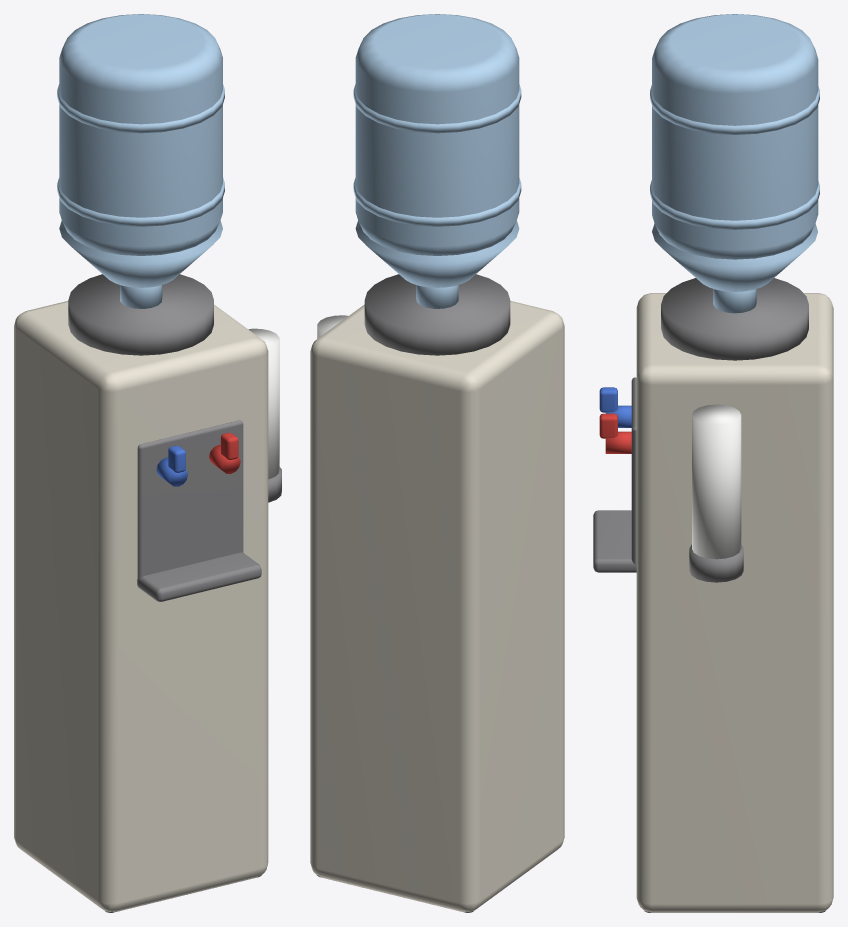
File: cooler.glb
The picture shows the model from 3 angles, left to right: view 1: azimuth 30°, elevation 25°; view 2: azimuth 150°, elevation 25°; view 3: azimuth 270°, elevation 25°; orthographic projection.
Visible parts, largest first — view 1: CoolerMesh; view 2: CoolerMesh; view 3: CoolerMesh.
Boxes of the visible parts, x1,y1,x2,y2 form: CoolerMesh: (14, 14, 281, 912); CoolerMesh: (310, 14, 564, 912); CoolerMesh: (593, 14, 833, 912).
Bounding box in the file's own units: 0.404 × 1.5 × 0.39.
